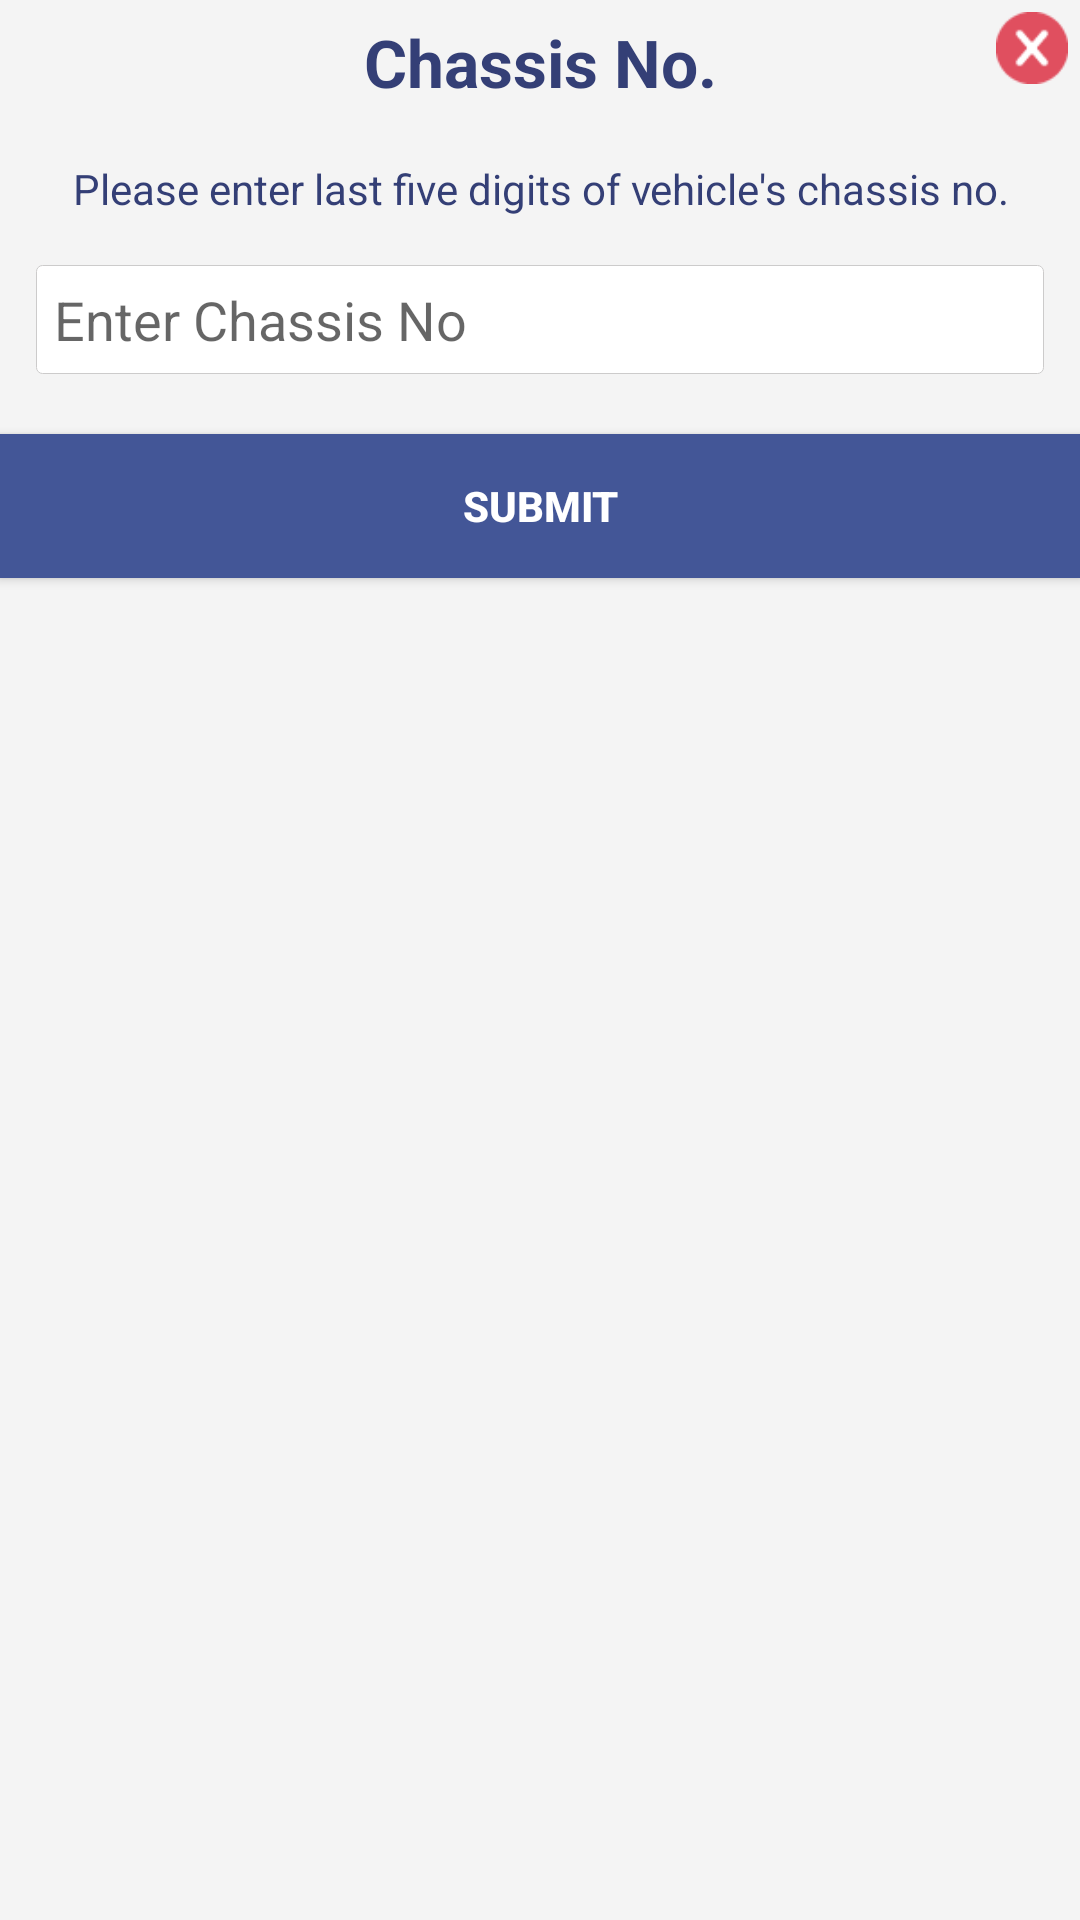

Icon bounding boxes for this 1080×1920 phone screenshot, format (left=x1, top=y1, right=x2, bottom=y2):
close: (left=996, top=12, right=1068, bottom=84)
